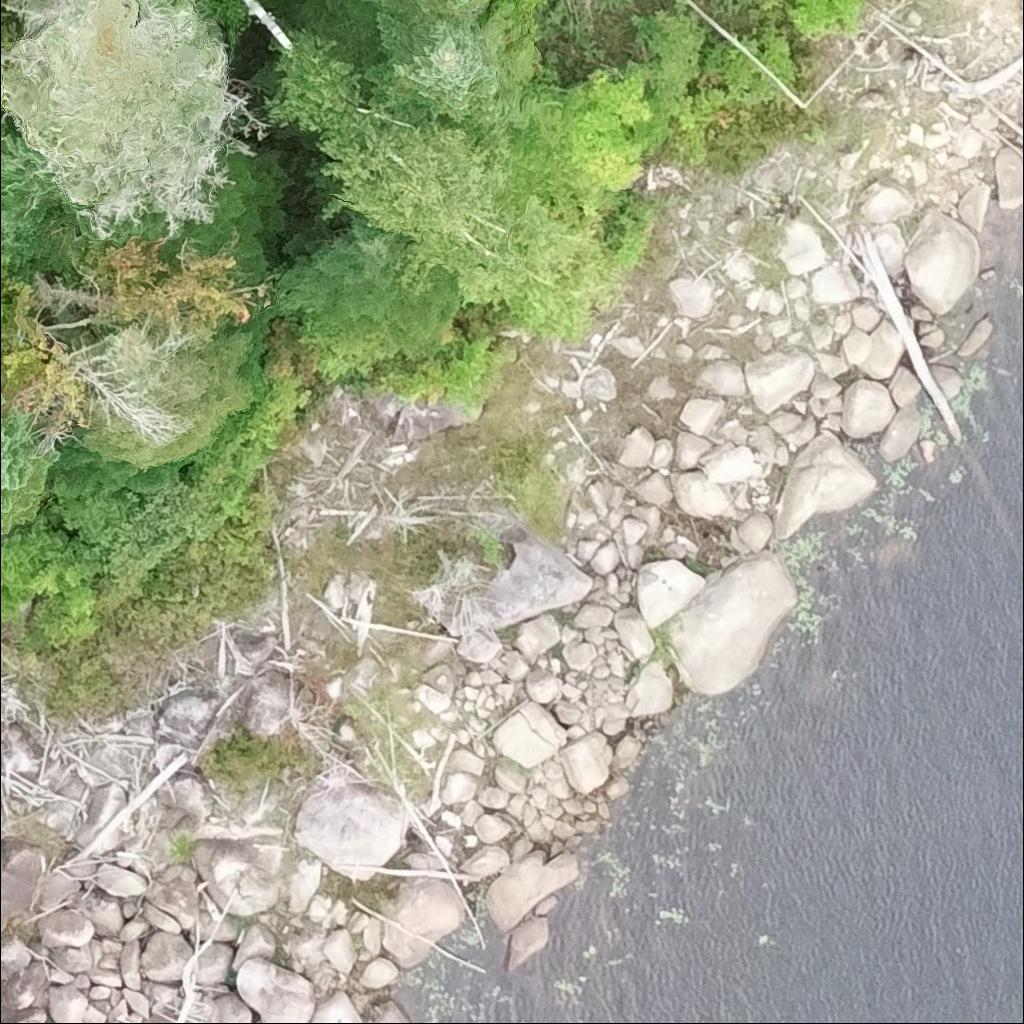crown: (265, 28, 621, 338), (296, 0, 526, 133), (270, 206, 458, 347), (83, 230, 250, 328), (184, 151, 298, 286), (0, 129, 92, 276), (0, 369, 63, 539), (364, 0, 494, 20), (0, 3, 18, 38), (0, 114, 5, 139), (0, 82, 0, 90)
